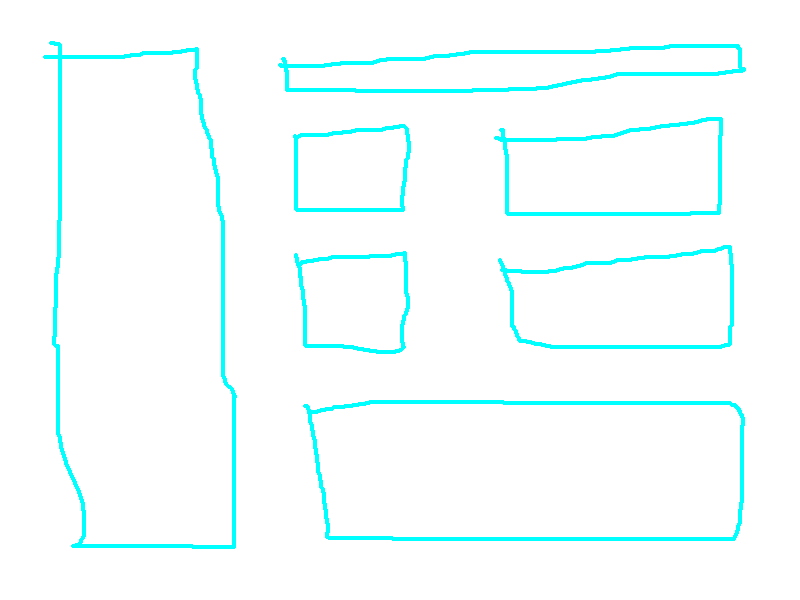rect: (41, 39, 245, 561), (300, 391, 759, 552), (276, 38, 751, 98), (496, 241, 742, 355), (495, 112, 728, 219), (288, 249, 416, 357), (290, 119, 412, 220)
